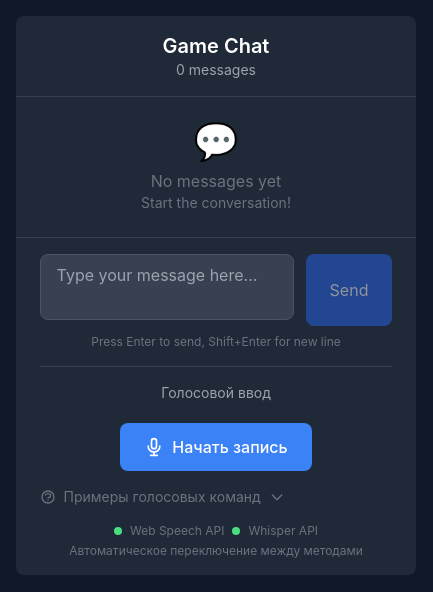
it: ChatInterface Component › enables send button when input has content
The image size is (433, 592).
Type "Test" into the text box with placeholder "Type your message here...". click: (167, 286)
box: [40,254,294,320]
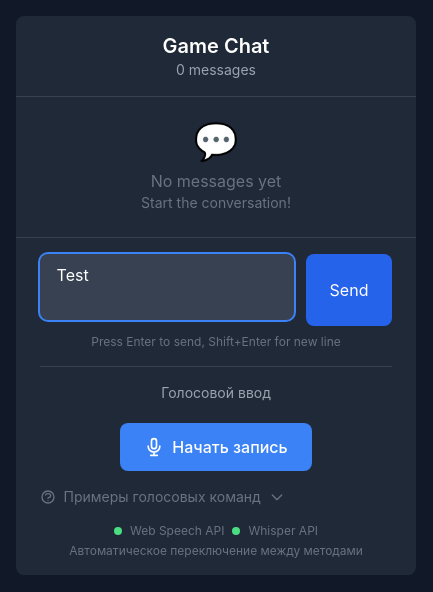
Expected: the button "Send" is enabled, [306,254,392,326]
